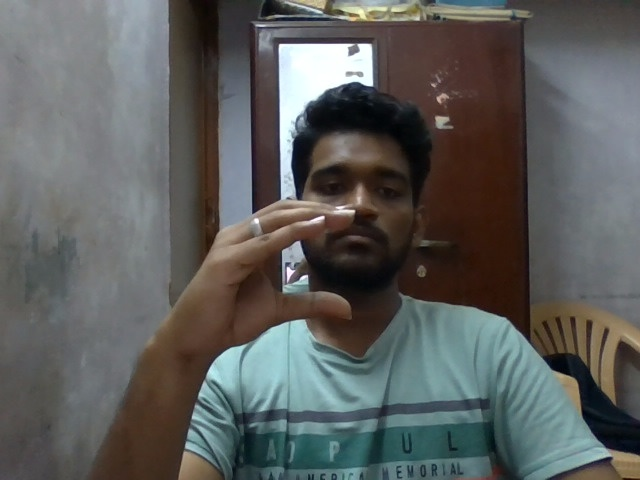C: (154, 192, 365, 356)
